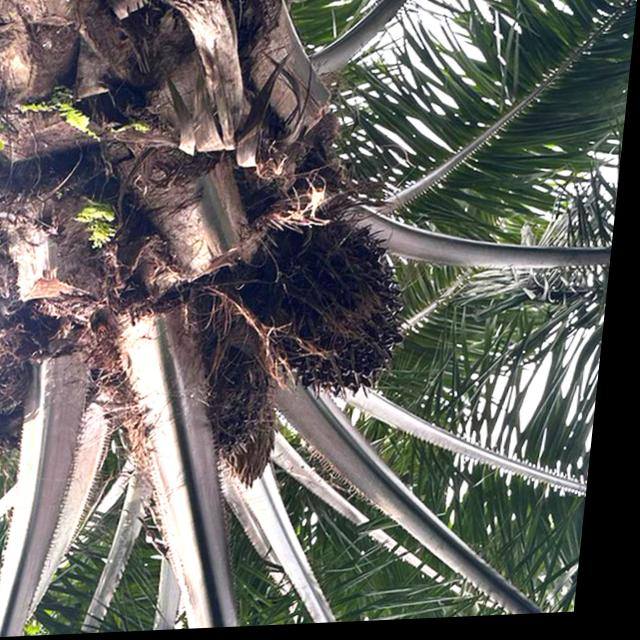ripe: (240, 230, 419, 405), (176, 306, 287, 471)
